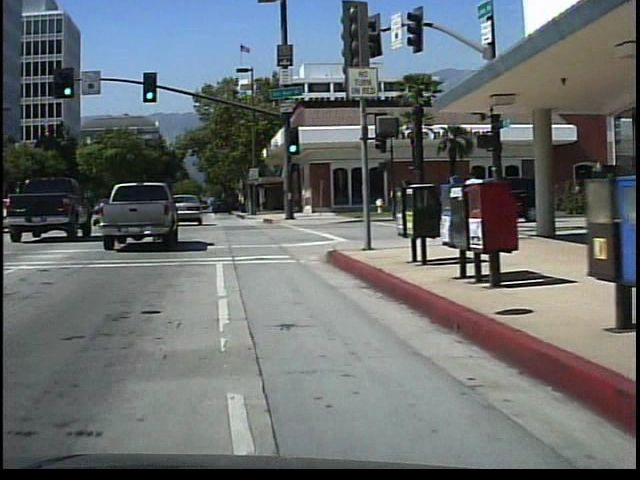person: (461, 166, 489, 243)
